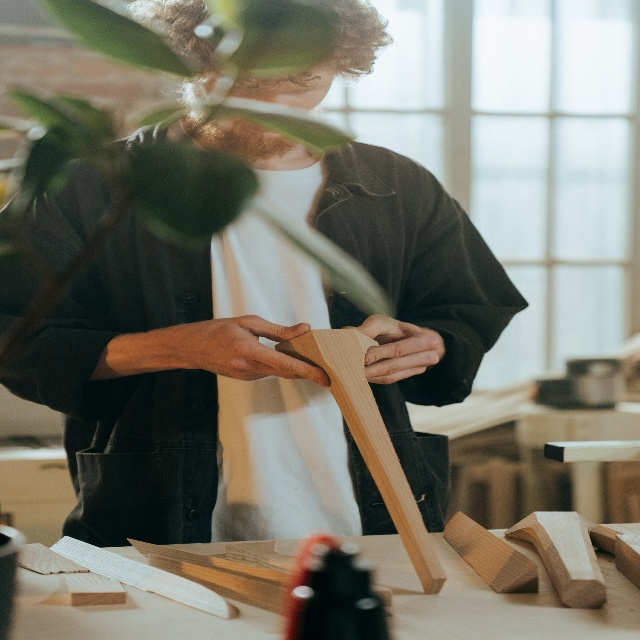Sin_guantes: (205, 311, 331, 393), (360, 308, 440, 387)
